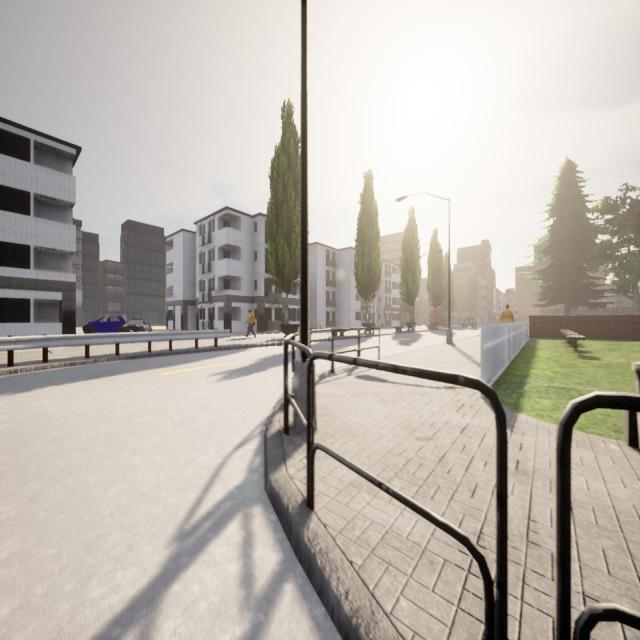Pedestrian: (500, 302, 517, 331), (246, 308, 256, 336)
Vehicle: (82, 314, 148, 332), (462, 314, 476, 334)
